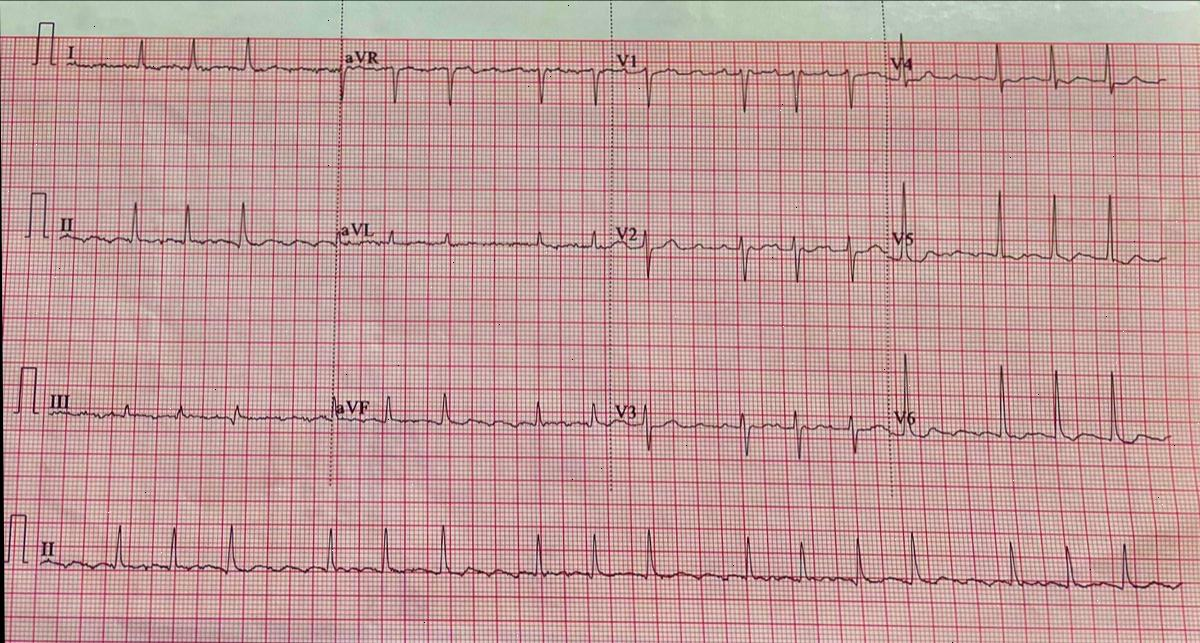Lead_I: (58, 16, 343, 112)
Lead_II: (54, 173, 336, 272)
Lead_III: (41, 364, 336, 451)
Lead_II_ext: (35, 496, 1190, 616)
Lead_V1: (614, 27, 882, 124)
Lead_V2: (610, 188, 878, 294)
Lead_V3: (612, 379, 887, 474)
Lead_V4: (882, 6, 1175, 116)
Lead_V5: (877, 156, 1174, 302)
Lead_V6: (883, 334, 1176, 478)
Lead_aVF: (320, 349, 613, 469)
Lead_aVL: (334, 182, 614, 278)
Lead_aVR: (337, 16, 615, 122)
